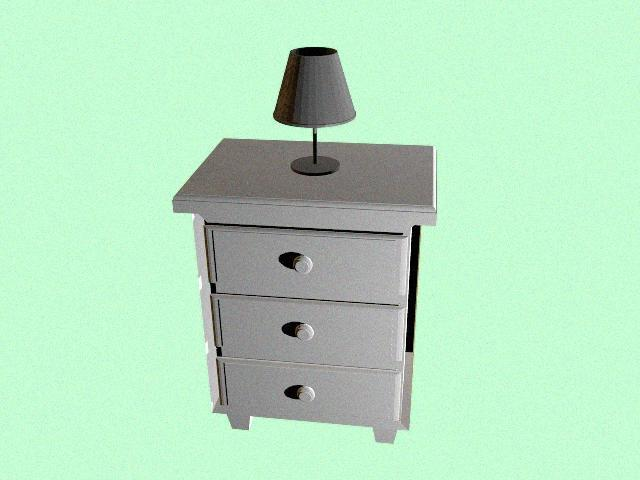cabinet_door: (215, 230, 407, 300), (220, 300, 404, 362), (226, 363, 400, 421)
handle: (281, 246, 321, 281), (290, 383, 319, 409), (290, 319, 318, 345)
